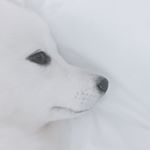puppy: (1, 1, 111, 134)
